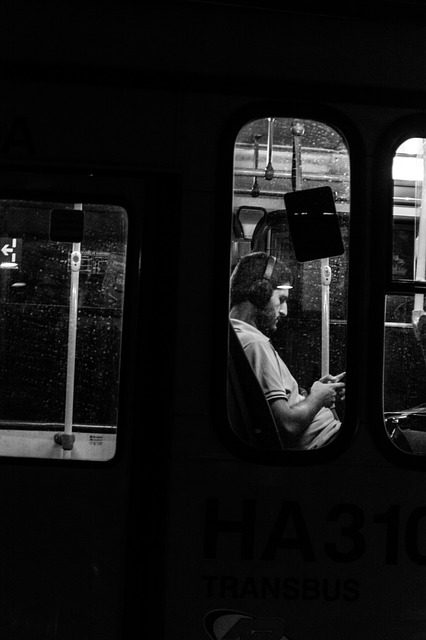headphones: (247, 255, 277, 310)
